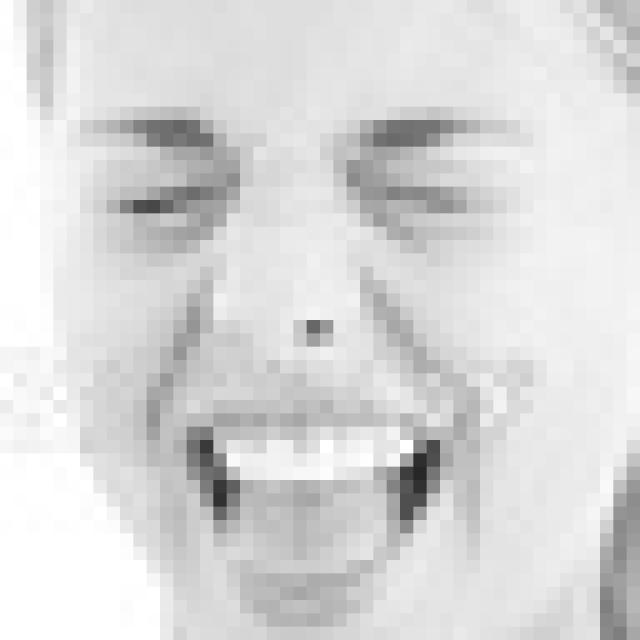disgust: (75, 101, 542, 625)
